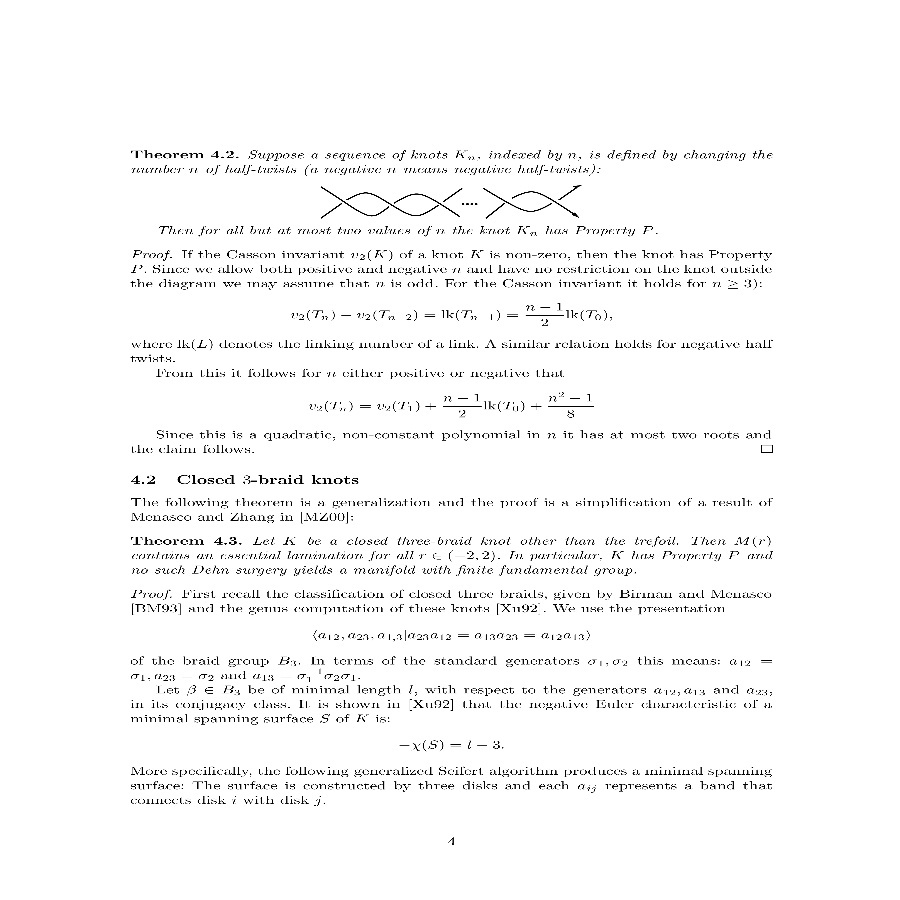eq: (287, 300, 612, 335), (309, 390, 598, 423), (307, 625, 596, 648), (394, 735, 511, 758)
